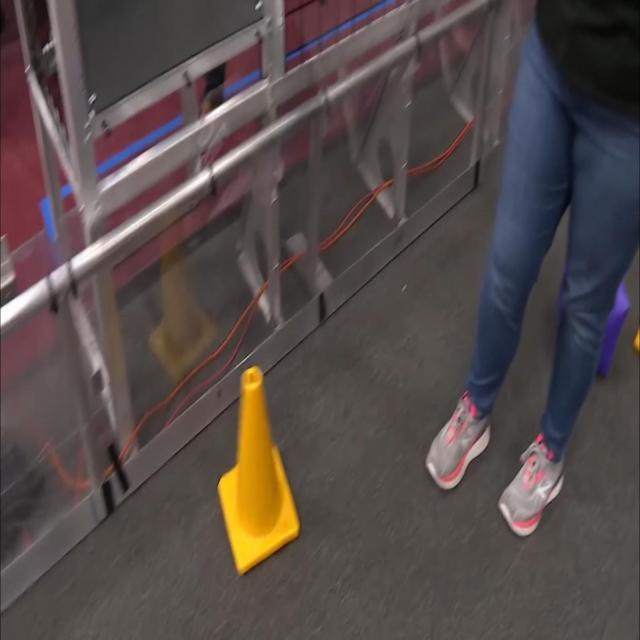frc_cone: (216, 329, 300, 556)
frc_cube: (600, 274, 630, 376)
